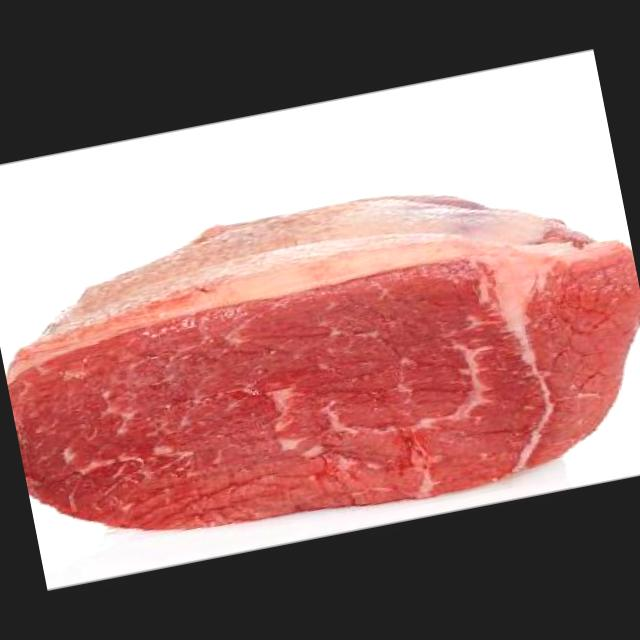beef: (0, 145, 640, 574)
